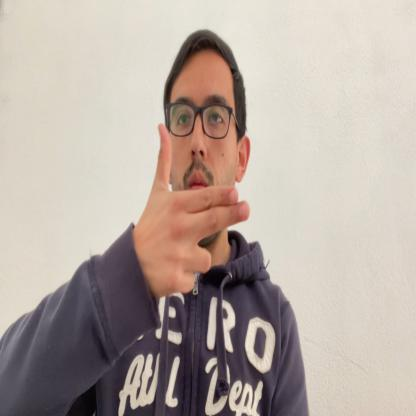H: (141, 122, 251, 297)
